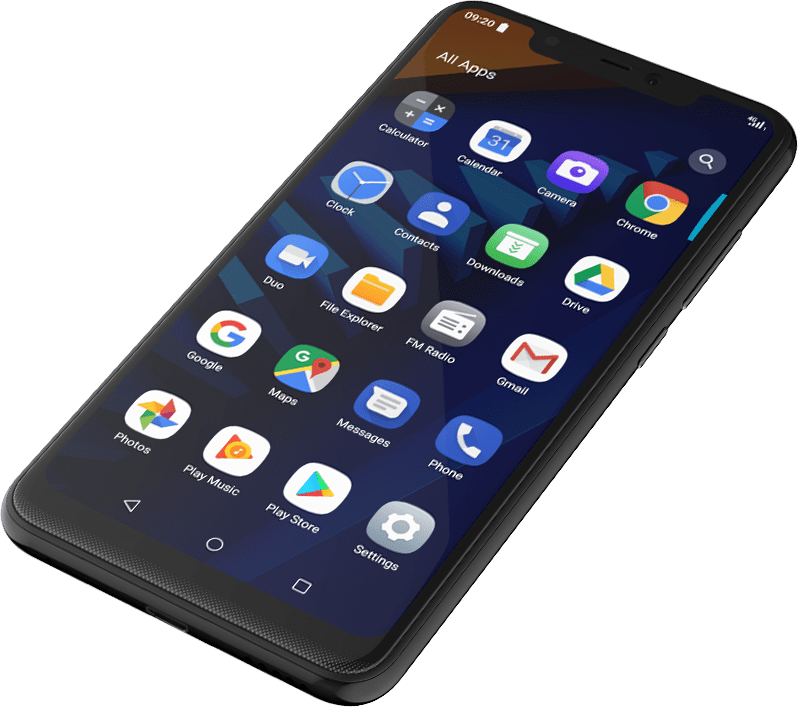phone: (2, 1, 793, 708)
